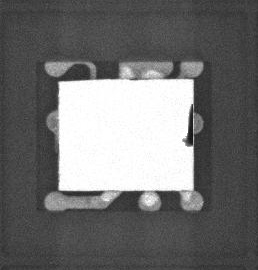DIE_BROKEN: (182, 105, 197, 150)
